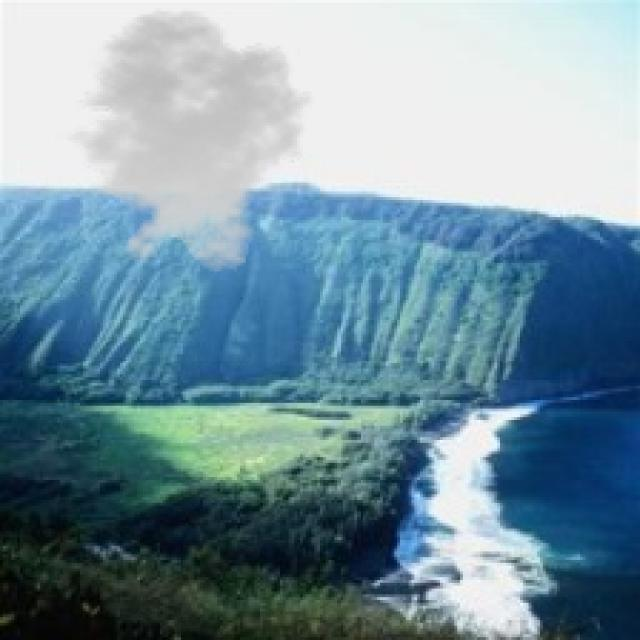Smoke: (54, 8, 320, 274)
